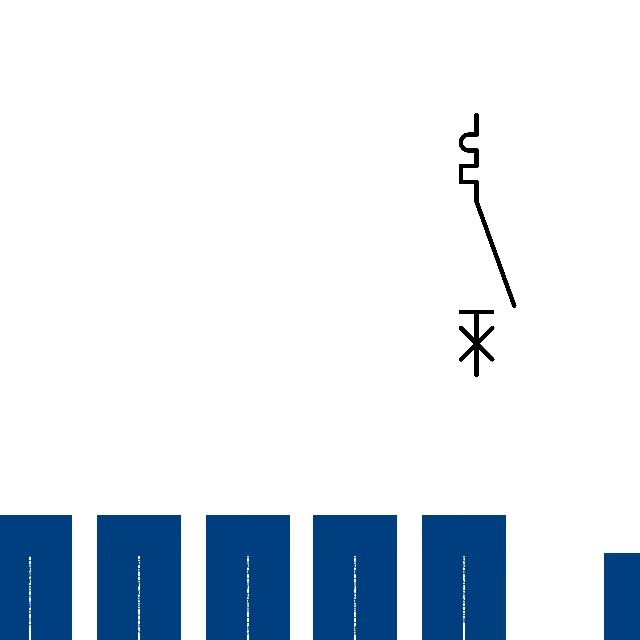interruptor_termomagnetico: (454, 108, 521, 382)
